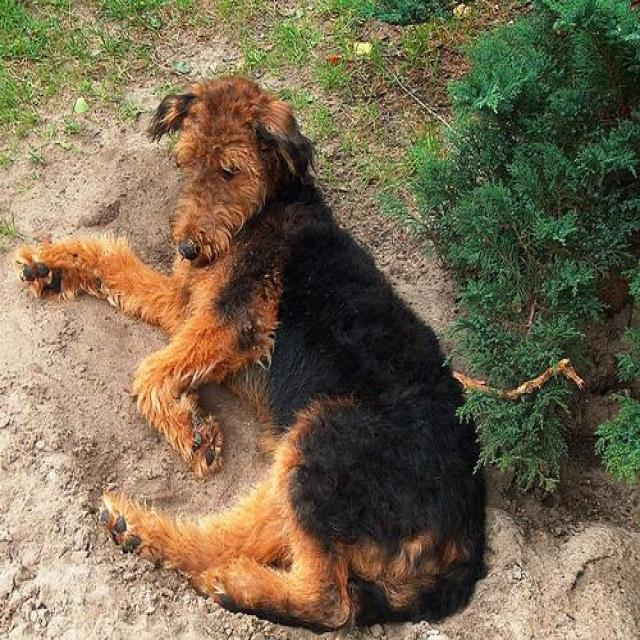airedale: (11, 76, 488, 632)
